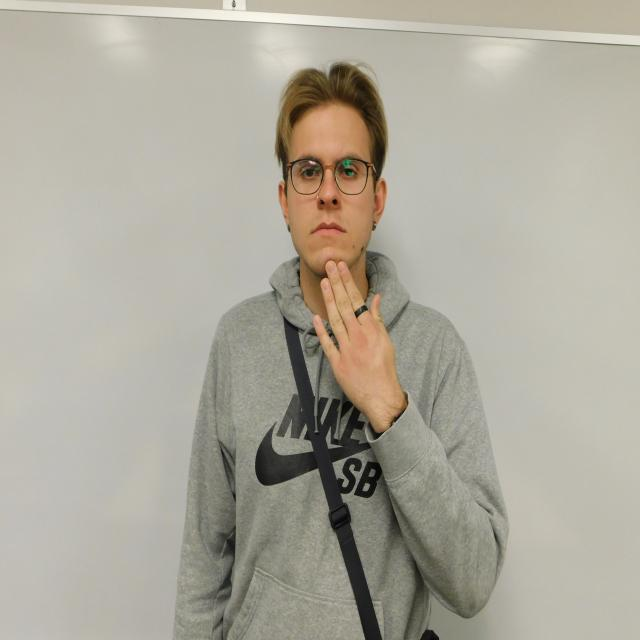thank-you: (314, 260, 396, 414)
